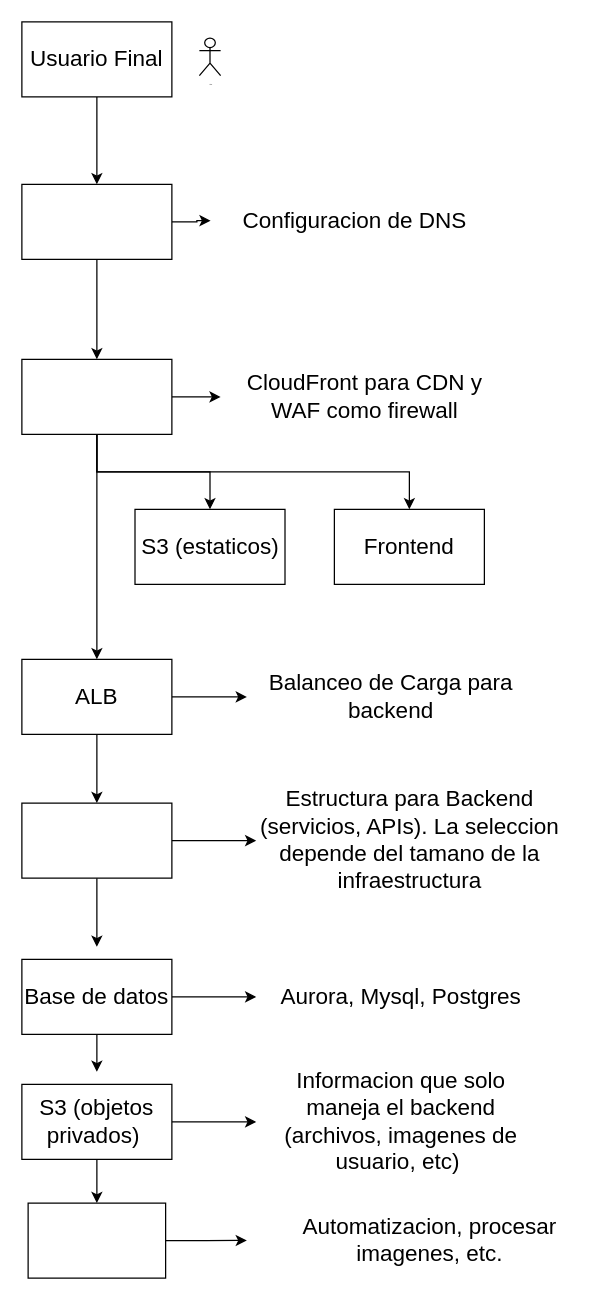
The diagram is 595 pixels wide and 1300 high, and some of its shapes have lost their labels. Here are the shapes that lost their labels. From the top down, the centre of each, then its label:
At point 96,221: "Route 53".
At point 96,396: "CloudFront + WAF".
At point 96,840: "ECS, EC2 o EKS".
At point 96,1240: "Lambda (opcional)".
